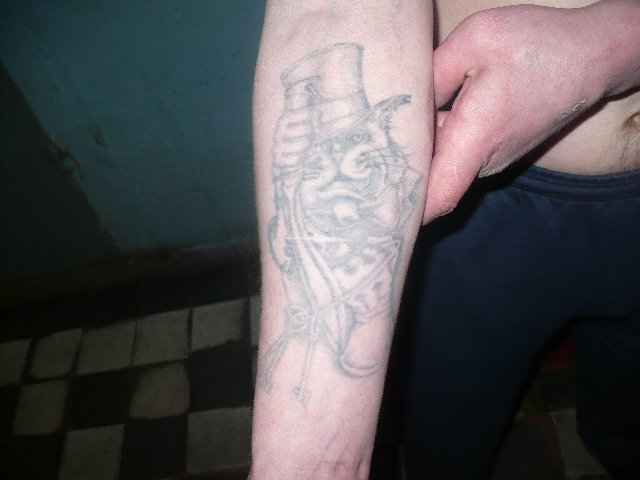tatu8_kot: (248, 32, 429, 401)
